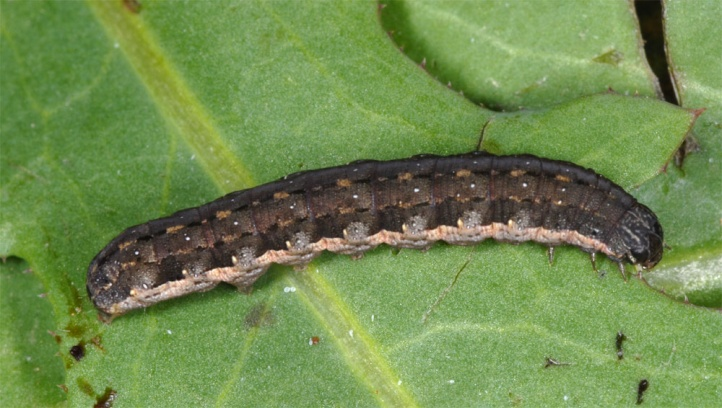Armyworm: (73, 142, 667, 320)
